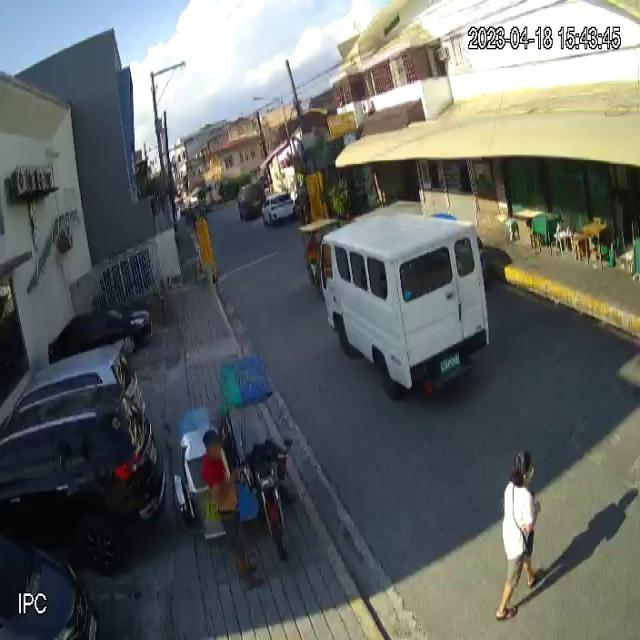Tricycle: (171, 346, 294, 560)
Van: (316, 208, 494, 402)
